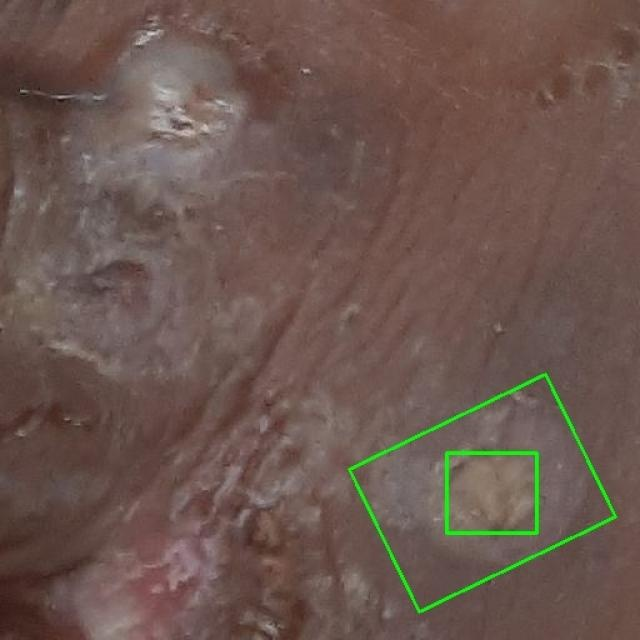Eczema: (350, 374, 615, 612), (446, 452, 536, 532)
